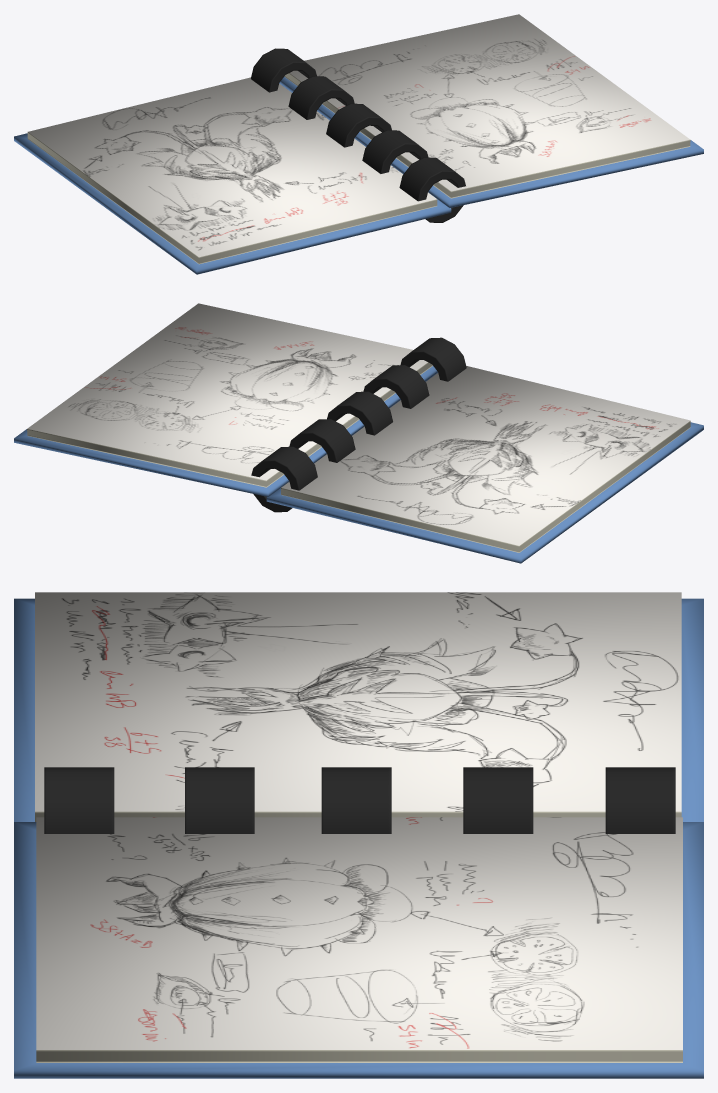
The model's file is LibretaSketchDani.fbx.
The picture shows the model from 3 angles, top to bottom: view 1: azimuth 30°, elevation 25°; view 2: azimuth 150°, elevation 25°; view 3: azimuth 270°, elevation 25°; orthographic projection. The views are drawn at different scales.
Visible parts, largest first — view 1: Cylinder.009; view 2: Cylinder.009; view 3: Cylinder.009.
Part boxes in pixels (x1,y1,x2,y2): Cylinder.009: (14,14,703,274); Cylinder.009: (14,303,703,563); Cylinder.009: (14,592,703,1078).
Size of the model in its own units: 396 by 38.94 by 247.
